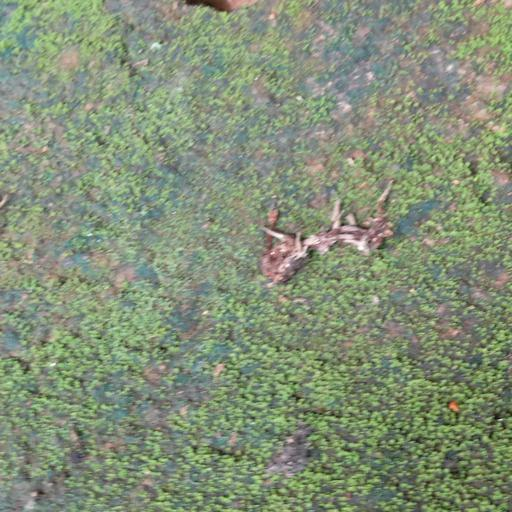algae: (14, 1, 512, 512)
